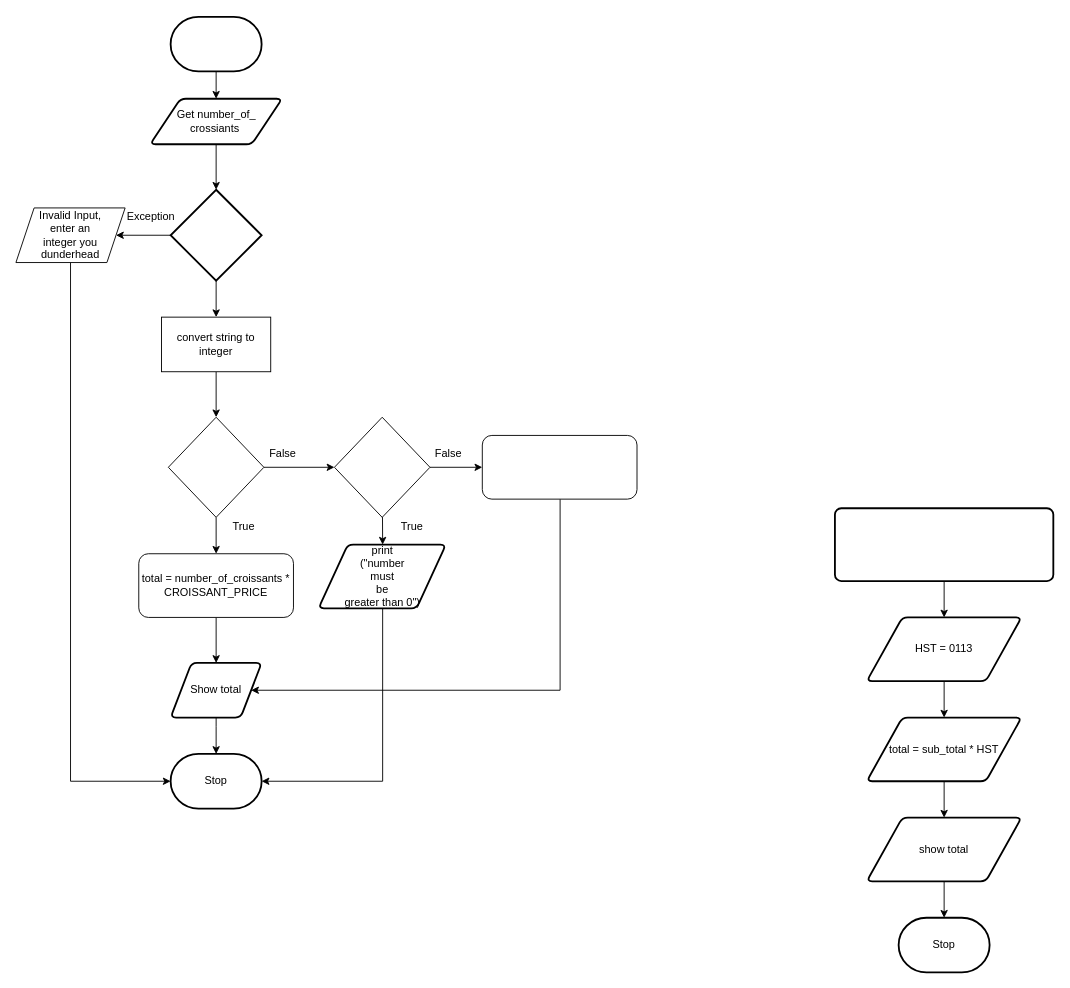
This 1070x988 diagram has some shape labels left out. The shapes that lost their labels are listed below. From the top down, each one's centre as x and y in pixels, then its label:
At pixel 215 43: "Start".
At pixel 215 234: "try".
At pixel 215 466: "if number_of_ croissants >= 6".
At pixel 382 466: "elif number_of_ croissants > 0".
At pixel 559 467: "total = (number_of_croissants *CROISSANT_PRICE) * HST".
At pixel 944 544: "sub_total = 0.75 + 1.00 + (0.5 * diameter)".
